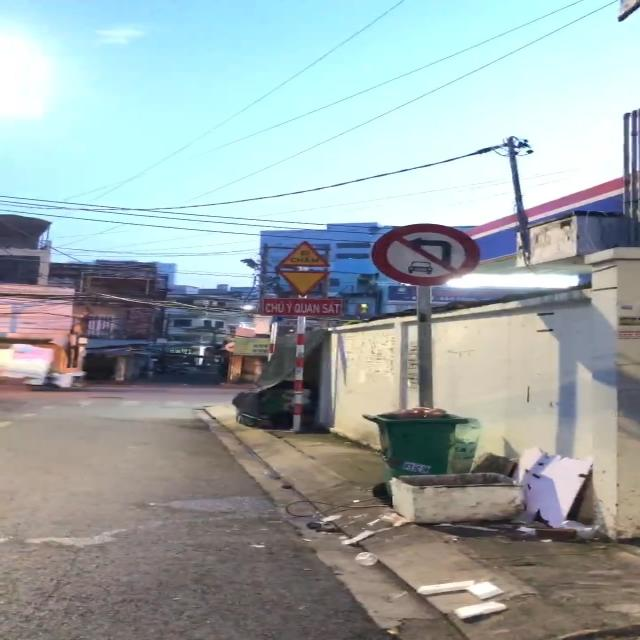Bien bao cam xe o to re trai: (368, 220, 486, 290)
Bien bao di cham: (275, 238, 333, 270)
Bien bao giao nhau voi duong uu tien: (269, 268, 339, 298)
